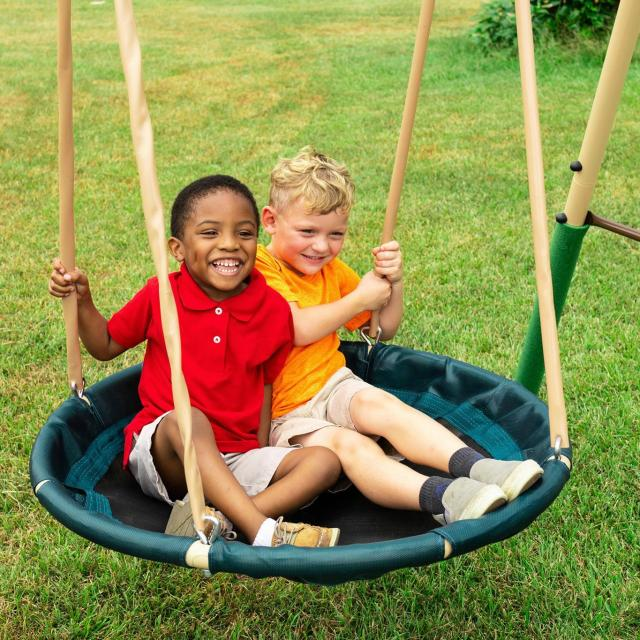child: (38, 171, 343, 554), (256, 139, 543, 521)
